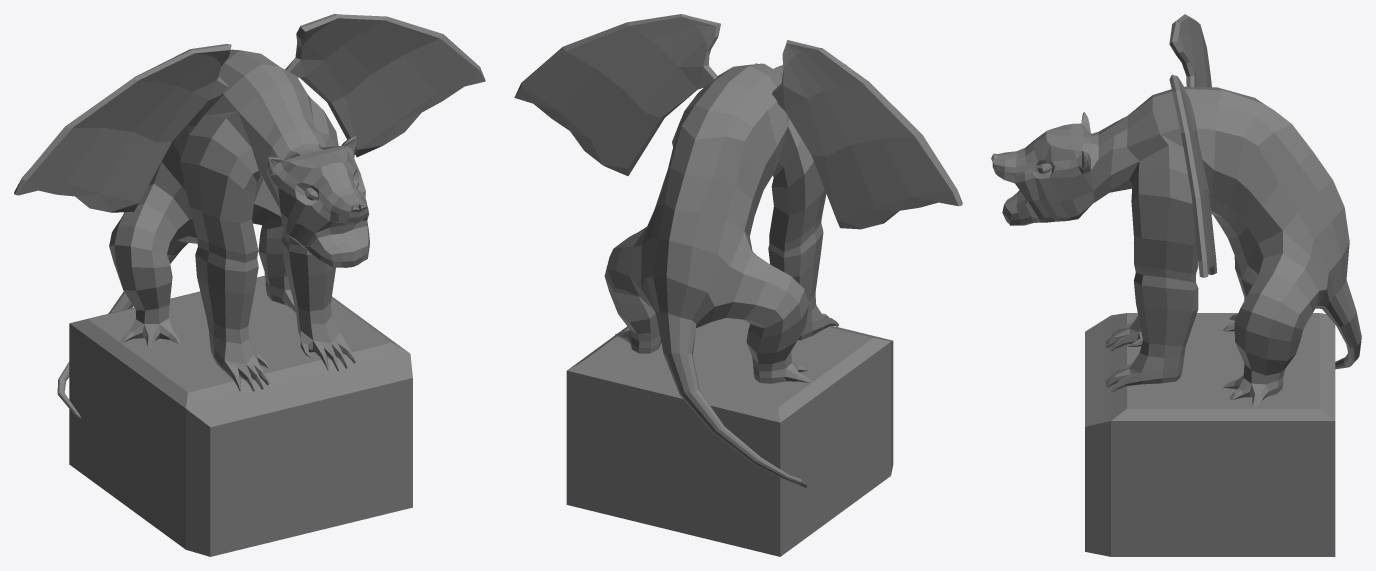
File: Gargula.fbx
The picture shows the model from 3 angles, left to right: view 1: azimuth 30°, elevation 25°; view 2: azimuth 150°, elevation 25°; view 3: azimuth 270°, elevation 25°; orthographic projection. The views are drawn at different scales.
Parts seen in each view (by area): view 1: Gargula; view 2: Gargula; view 3: Gargula.
Boxes of the visible parts, x1,y1,x2,y2 form: Gargula: (14, 14, 485, 556); Gargula: (514, 14, 962, 556); Gargula: (991, 14, 1361, 556).
Size of the model in its own units: 121 by 114 by 85.88.
1 material, 1 textured.
